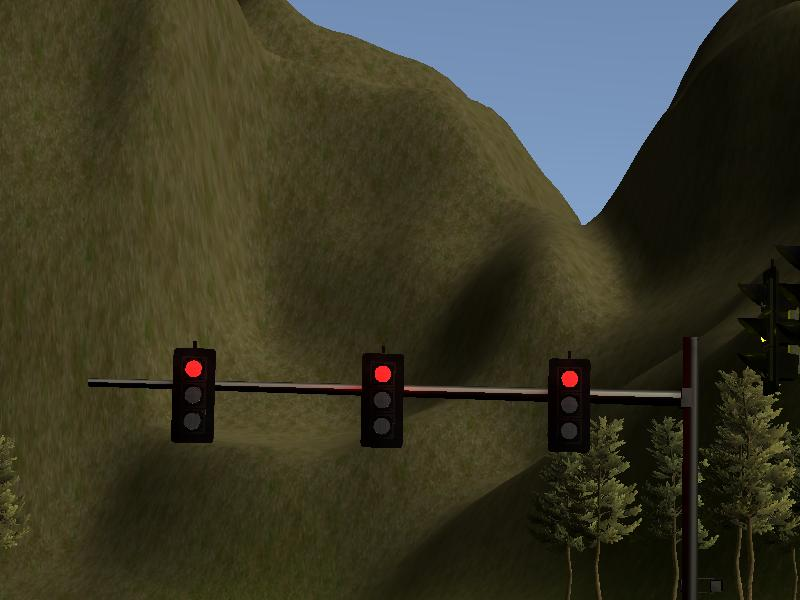red: (171, 346, 215, 444), (360, 351, 404, 449), (547, 355, 591, 453)
